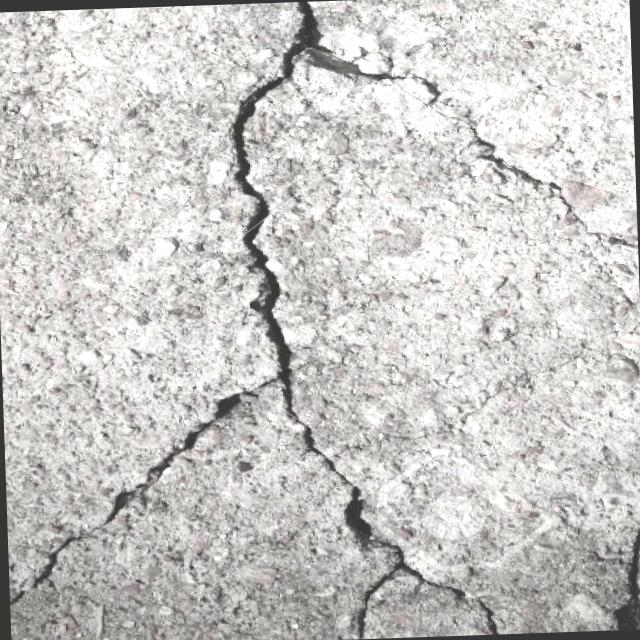crack: (320, 32, 634, 258), (269, 356, 507, 640), (4, 376, 275, 603), (218, 1, 332, 364), (603, 520, 640, 629)
